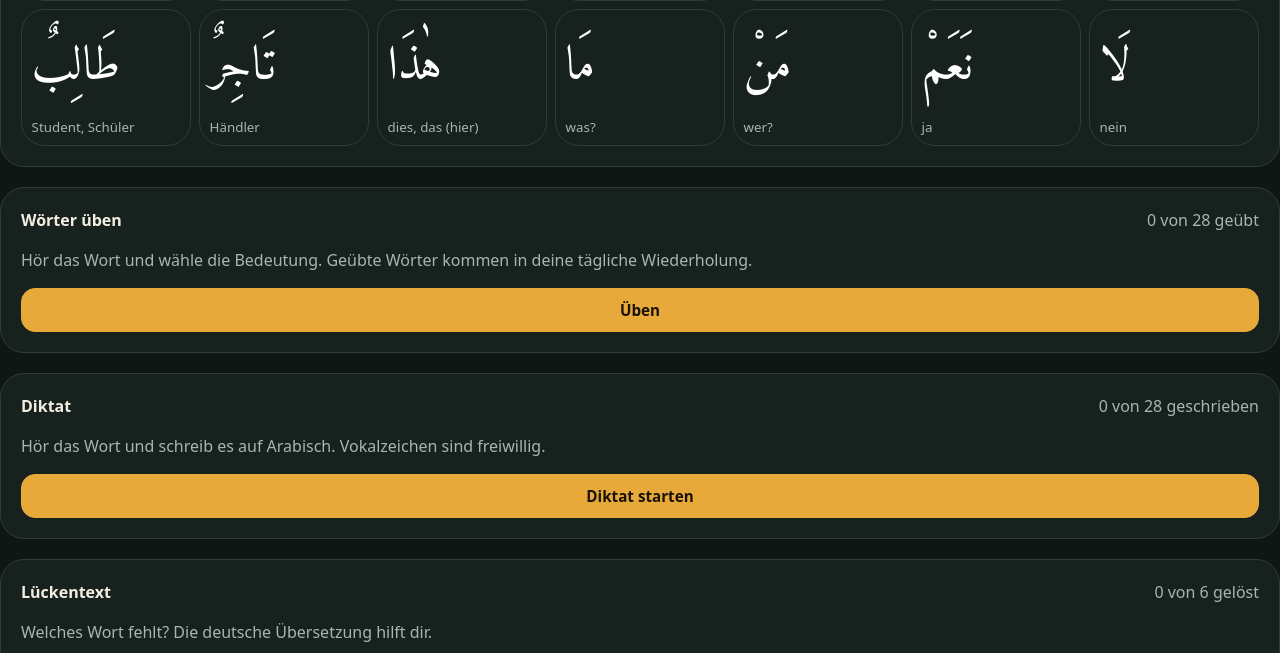
Test: Medina lesson page › practises the lesson words: right answers count once, wrong ones come back
(page scrolled)
Click the button "Üben".
click(640, 310)  # box [21,288,1259,332]
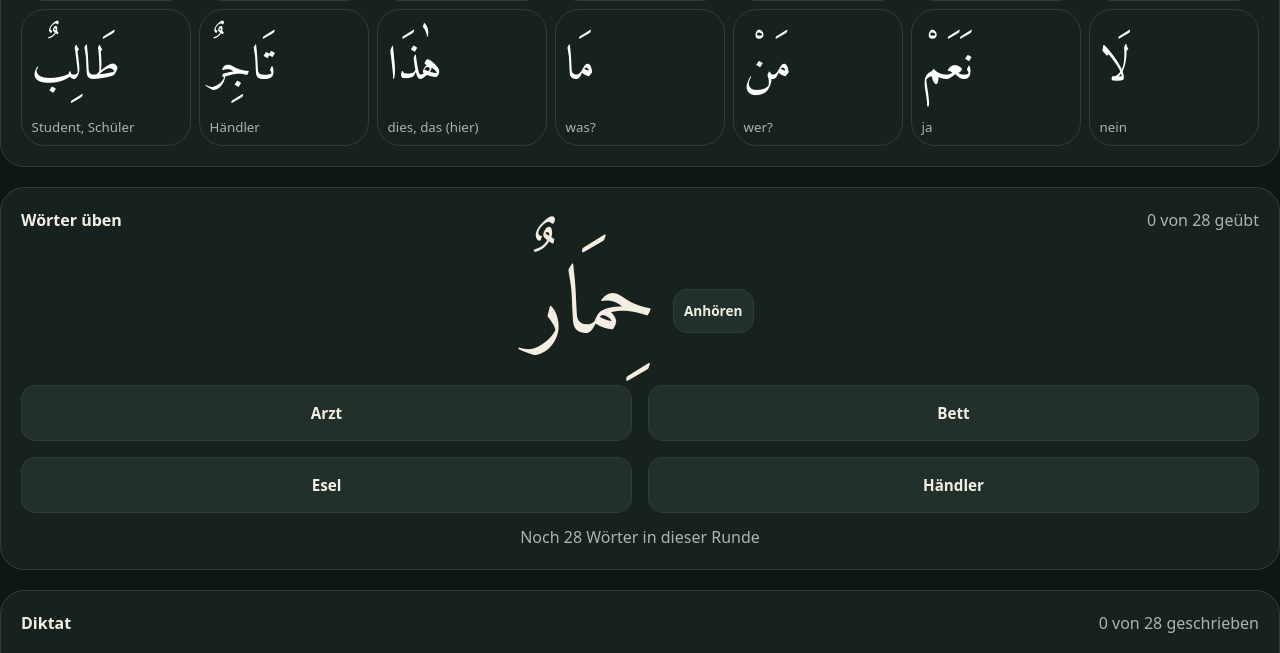
Click the button "Arzt".
click(326, 413)  # box [21,385,632,441]
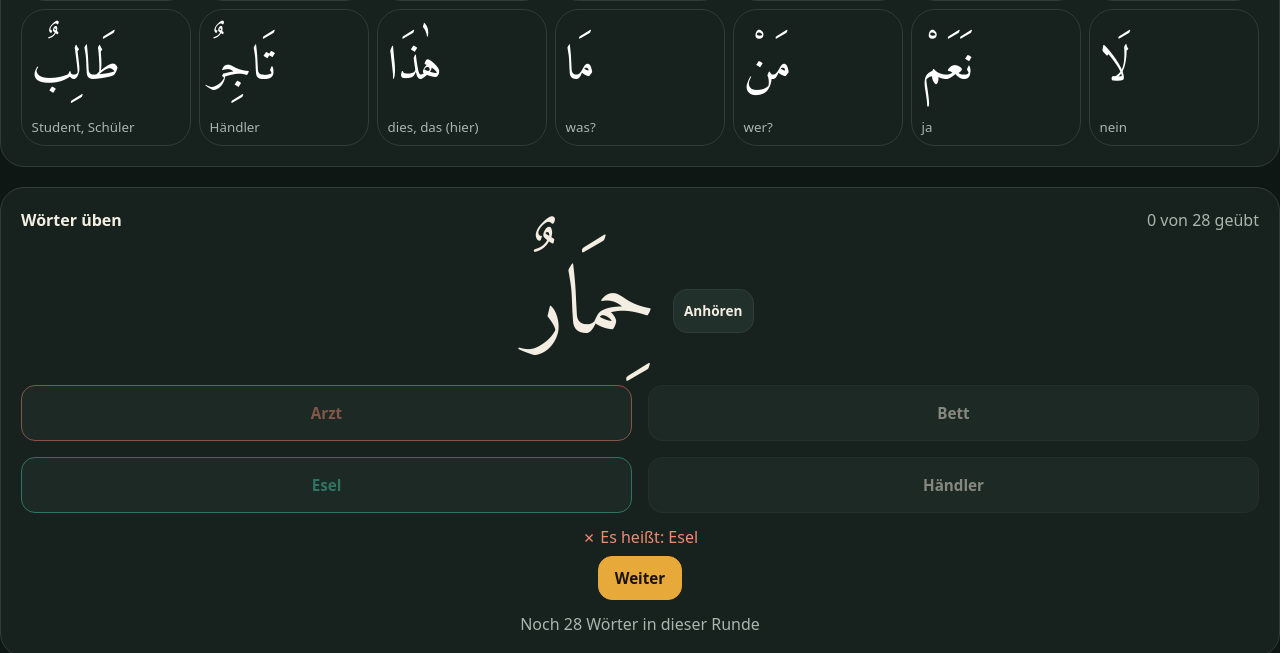
Click the button "Weiter".
click(640, 578)  # box [598,556,682,600]
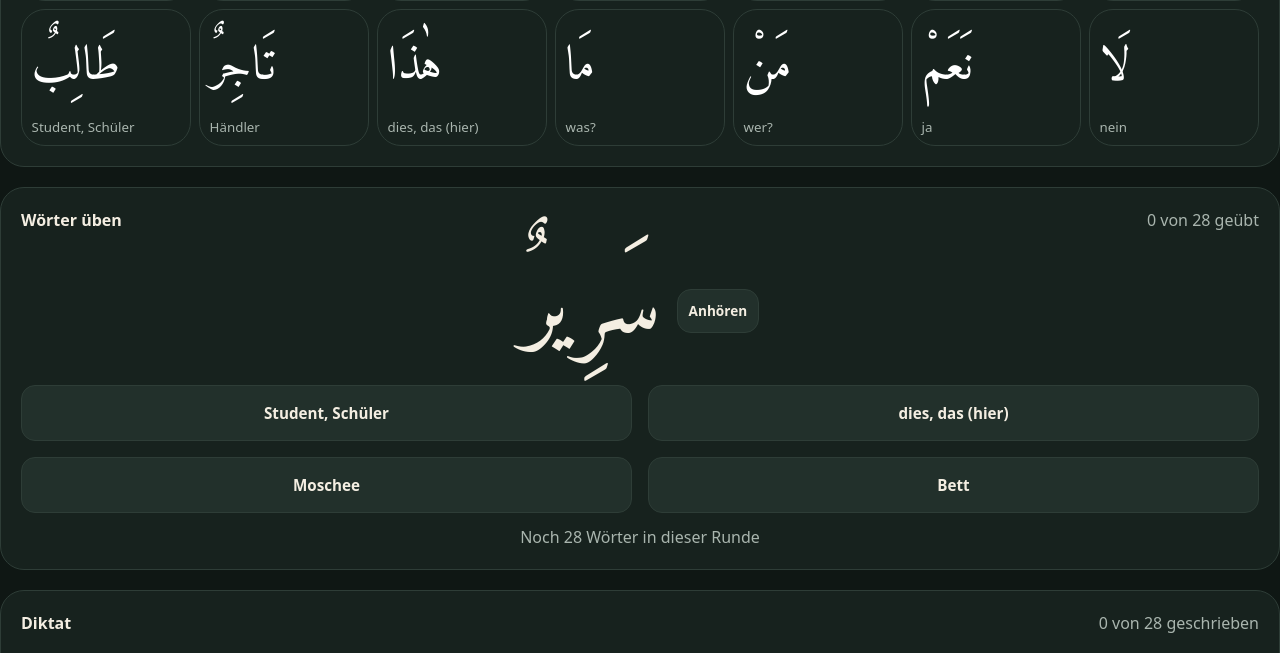
Next word: answer right, it is stored as practised.
Click the button "Bett".
click(954, 485)  # box [648,457,1259,513]
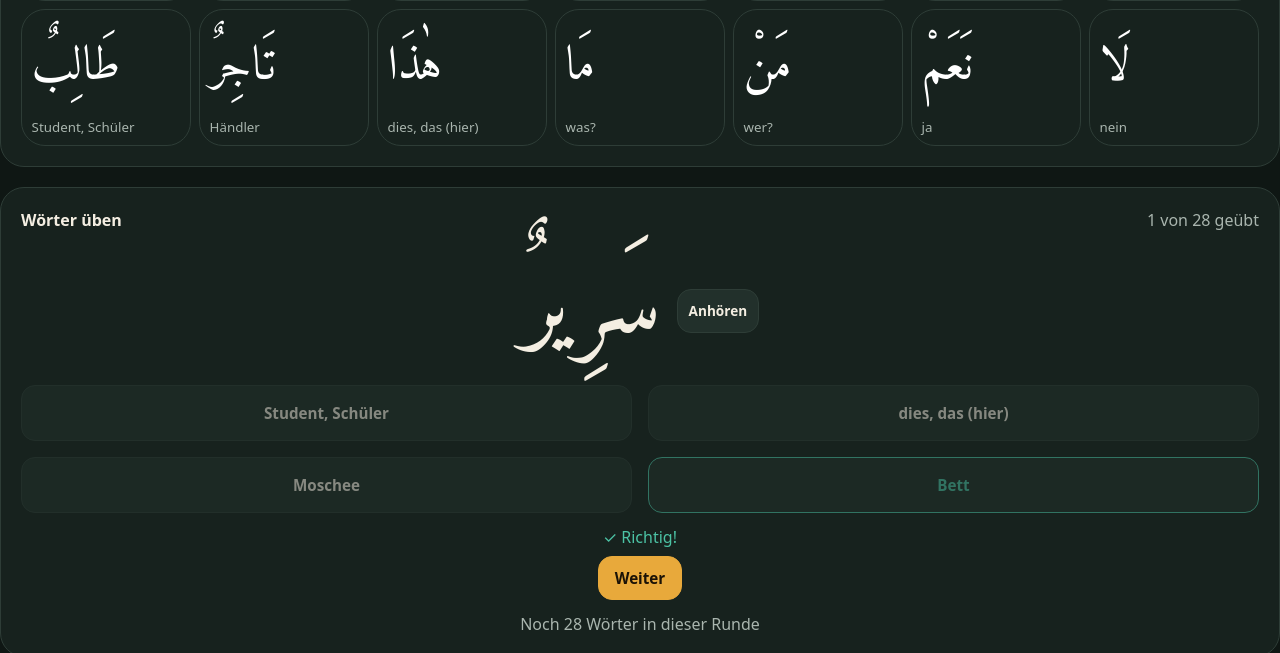
Expected: the message shows "Richtig!", [603,526,677,548]
